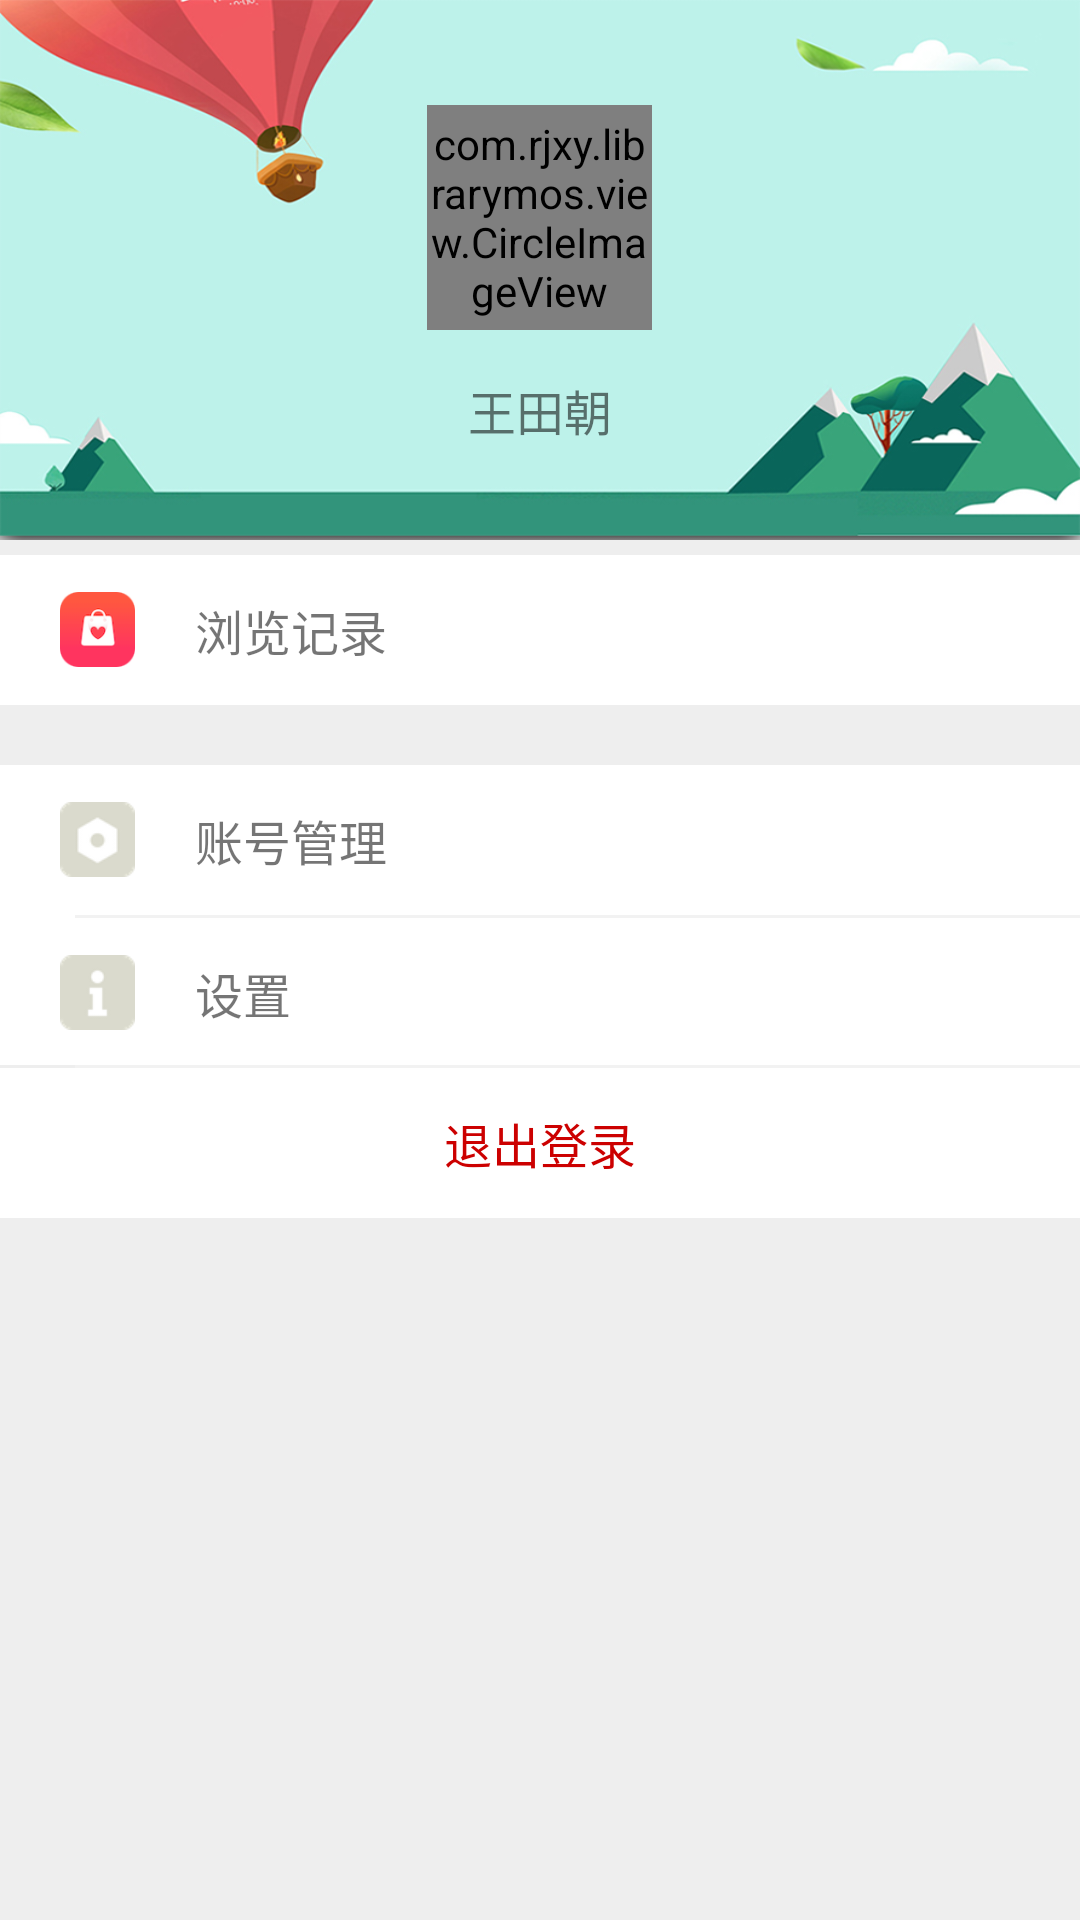

Icons on this 1080*1920 Android screen, each with its box as Rect(x1, y1, x2, y2):
mall: Rect(60, 592, 135, 667)
setting: Rect(60, 802, 135, 877)
setting help: Rect(60, 955, 135, 1030)
